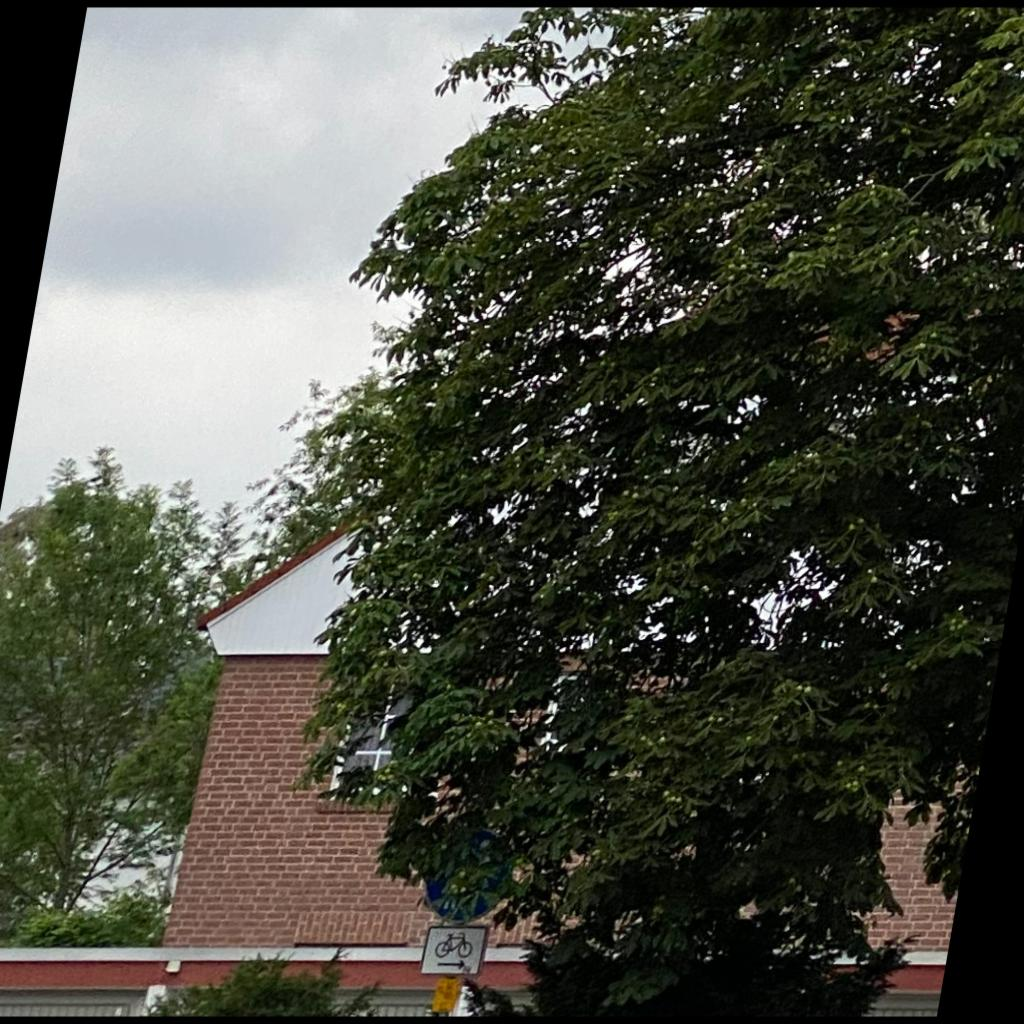tree: (296, 1, 1023, 1016), (1, 443, 247, 916), (248, 366, 398, 560)
